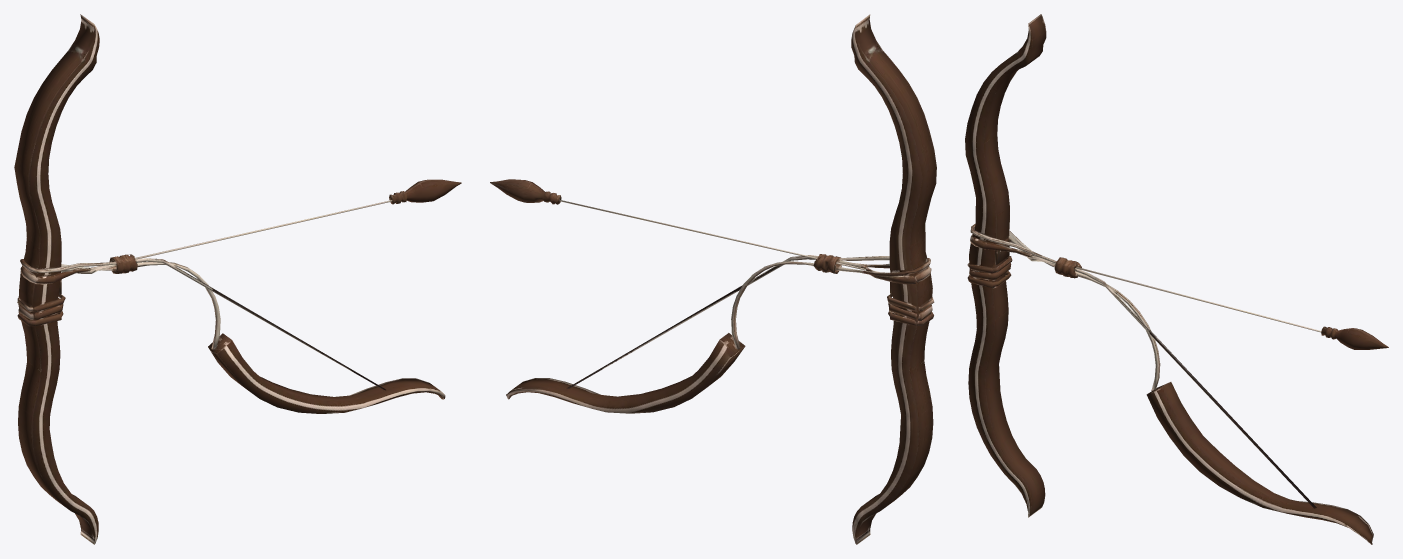
The model's file is bow.glb.
3 renders of one model, left to right at view 1: azimuth 30°, elevation 25°; view 2: azimuth 150°, elevation 25°; view 3: azimuth 330°, elevation 25°, orthographic. The views are drawn at different scales.
Size of the model in its own units: 0.8418 by 0.9526 by 0.0664.
1 material, 1 textured.
